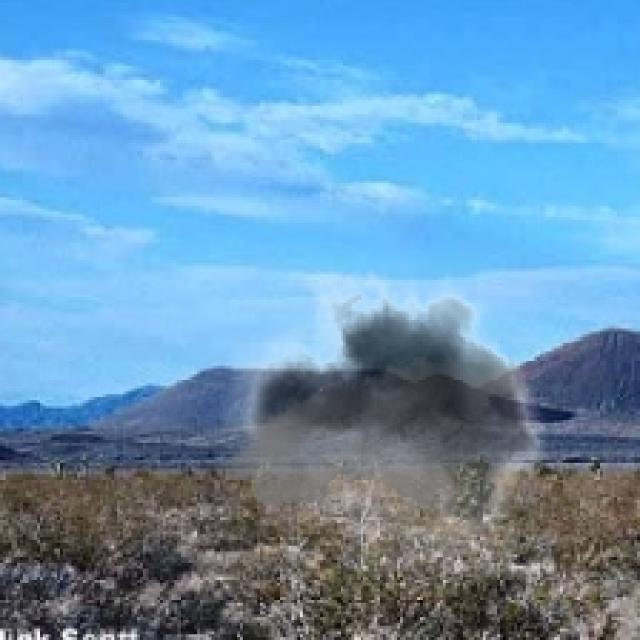smoke: (220, 251, 566, 600)
